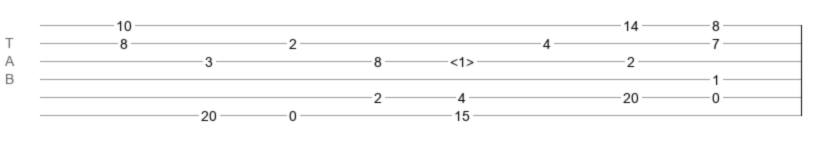0: (289, 108, 297, 118), (712, 90, 720, 100)
1: (712, 72, 720, 82)
10: (116, 18, 132, 28)
14: (623, 18, 639, 28)
15: (454, 108, 470, 118)
2: (289, 36, 297, 46), (374, 90, 382, 100), (627, 54, 635, 64)
20: (201, 108, 217, 118), (623, 90, 639, 100)
3: (205, 54, 213, 64)
4: (458, 90, 466, 100), (543, 36, 551, 46)
7: (712, 36, 720, 46)
8: (120, 36, 128, 46), (374, 54, 382, 64), (712, 18, 720, 28)
harmonic: (450, 54, 474, 64)
